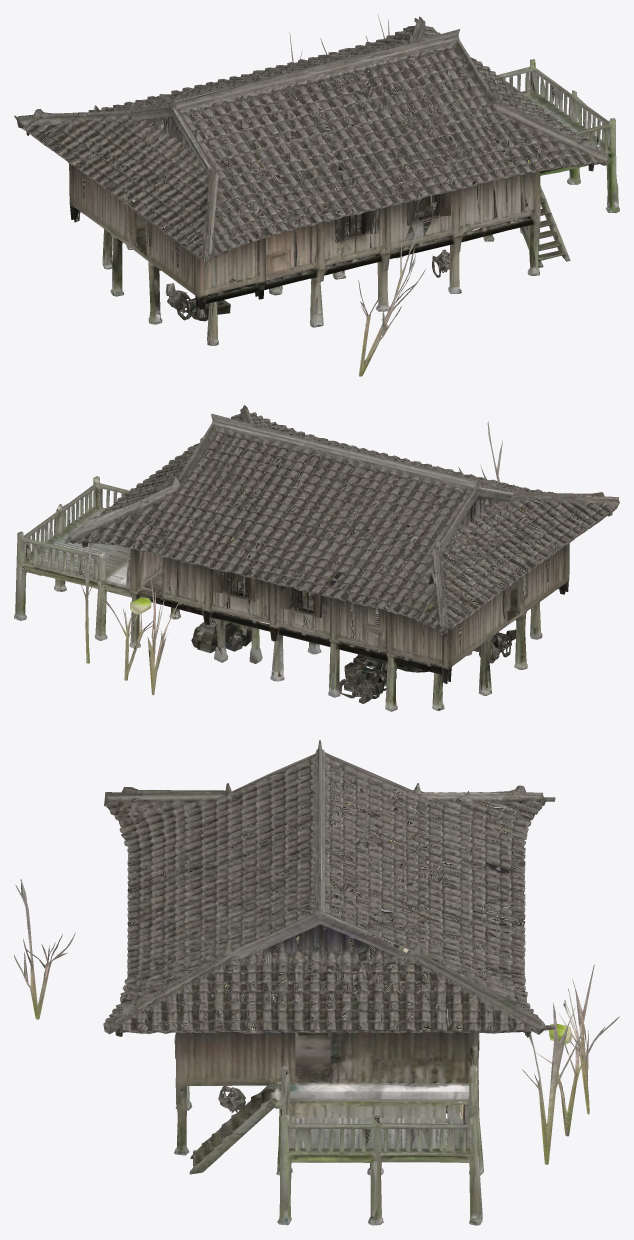
Rendered from bq_stilt.glb.
3 views of the same model, one above another, from view 1: azimuth 30°, elevation 25°; view 2: azimuth 150°, elevation 25°; view 3: azimuth 270°, elevation 25° (orthographic). The views are drawn at different scales.
Parts seen in each view (by area): view 1: mesh_node; view 2: mesh_node; view 3: mesh_node.
Boxes of the visible parts, x1=… form: mesh_node: x1=14, y1=14, x2=619, y2=376; mesh_node: x1=14, y1=405, x2=619, y2=711; mesh_node: x1=14, y1=740, x2=619, y2=1225.
Bounding box in the file's own units: 1.9 × 0.753 × 1.73.
1 material, 1 textured.
